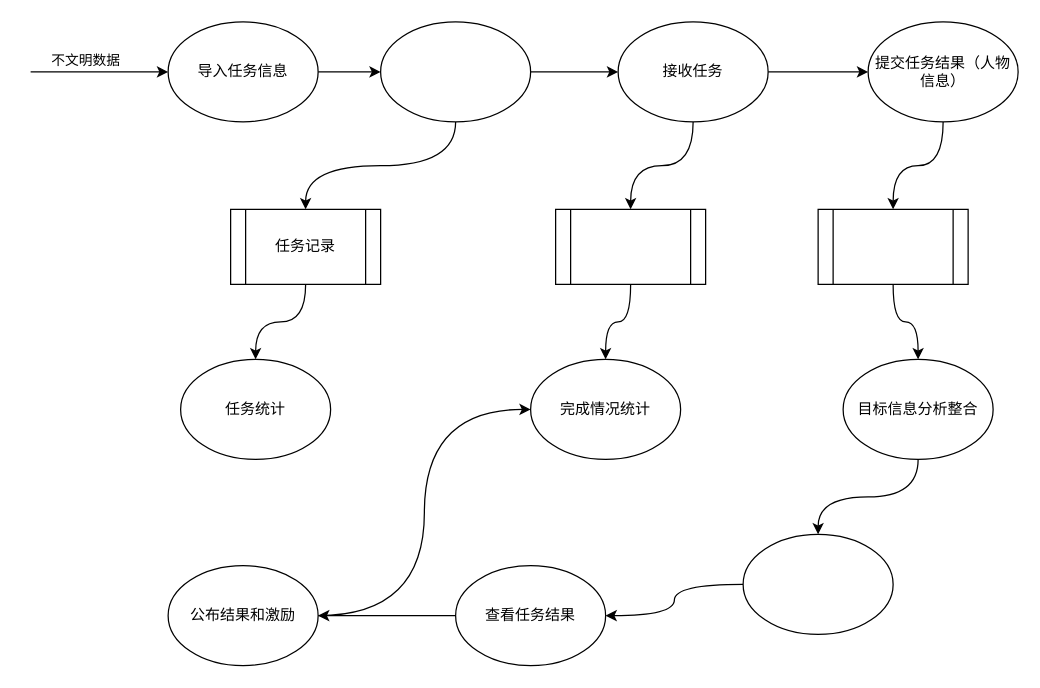
The diagram is 1040 pixels wide and 688 high, and some of its shapes have lost their labels. Here are the shapes that lost their labels. From the top down, the box of each, then its label:
(379, 21, 531, 122): 发布任务
(554, 208, 706, 284): 任务执行状况记录
(817, 208, 968, 284): 人物信息记录
(742, 533, 893, 634): 目标人物统计
